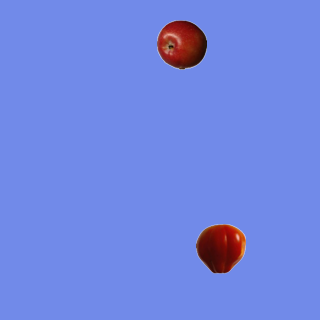Apple Braeburn: (156, 19, 206, 69)
Tomato 1: (195, 223, 245, 273)
